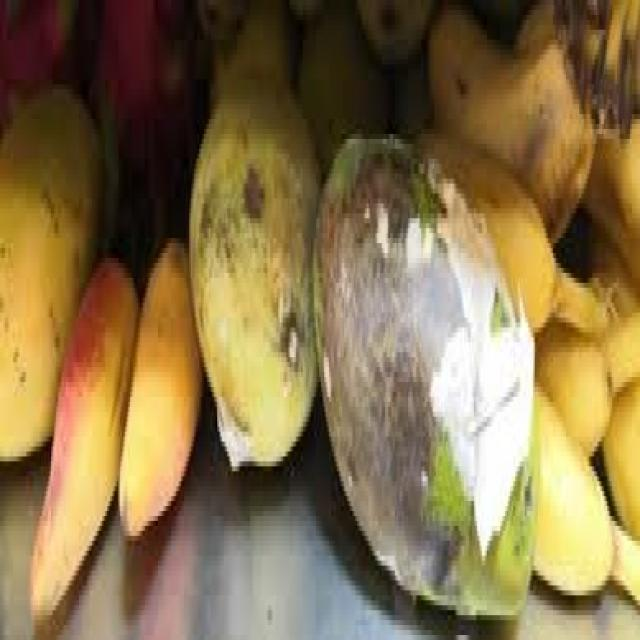organic waste: (311, 124, 536, 615), (395, 80, 614, 352), (188, 70, 319, 457), (28, 248, 137, 615), (426, 5, 596, 238), (0, 94, 94, 462), (514, 0, 638, 278), (117, 233, 204, 541), (95, 0, 204, 243), (532, 367, 638, 600), (294, 10, 390, 193), (535, 313, 638, 457), (552, 0, 638, 139), (0, 0, 77, 109), (209, 5, 290, 99), (602, 382, 638, 536), (353, 0, 432, 69)
